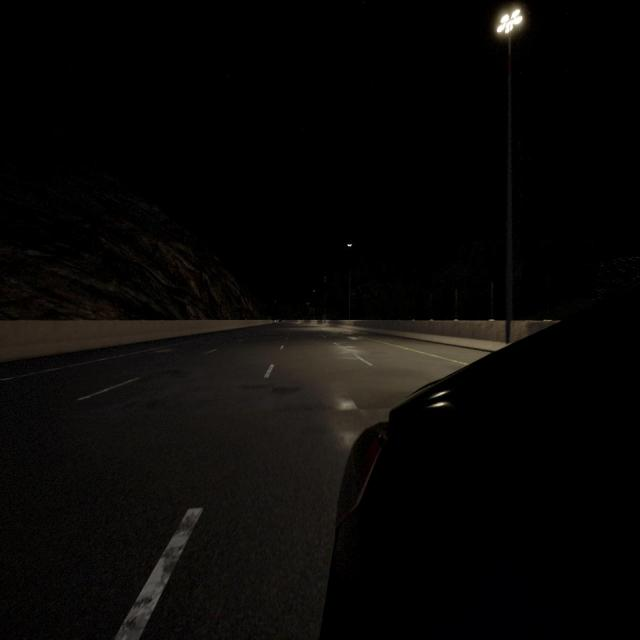Vehicle: (310, 294, 640, 640)
